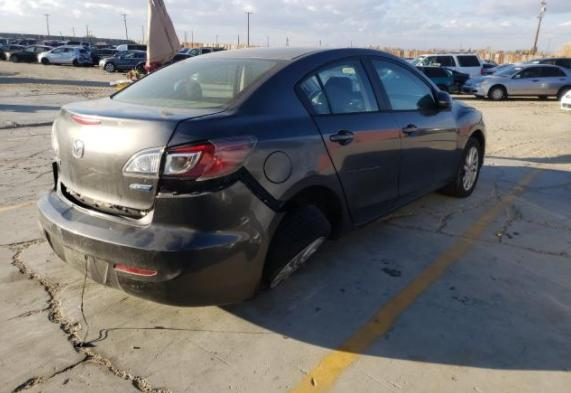Back-bumper: (37, 168, 288, 307)
Back-door: (294, 54, 403, 224)
Back-wheel: (264, 203, 330, 289)
Back-window: (298, 55, 380, 116)
Back-windshield: (112, 58, 288, 110)
Fender: (452, 102, 487, 177)
Front-door: (365, 54, 457, 204)
Front-wheel: (445, 136, 483, 197)
Front-window: (371, 57, 438, 111)
Mirror: (436, 92, 453, 110)
Quarter-panel: (167, 103, 357, 239)
Rocker-panel: (358, 178, 455, 226)
Roof: (191, 46, 340, 60)
Tail-light: (157, 134, 257, 190), (122, 148, 164, 178), (49, 123, 60, 154)
Trunk: (55, 97, 226, 209)
